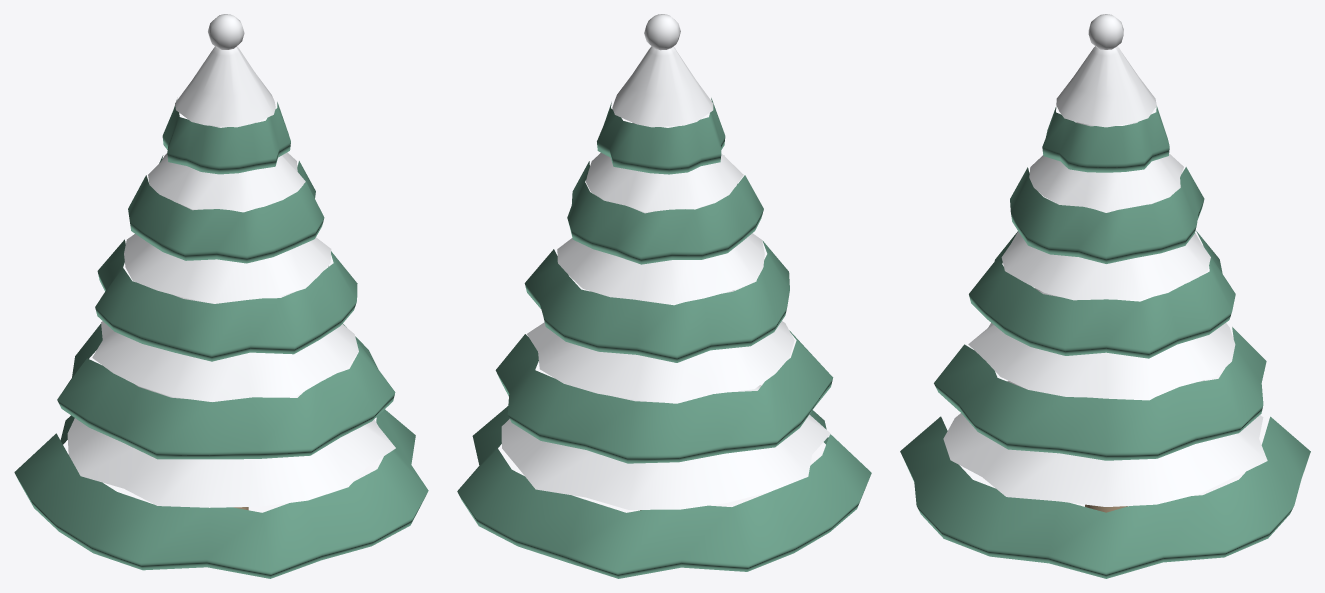
Rendered from BobsledPine.glb.
3 views of the same model, side by side, from view 1: azimuth 30°, elevation 25°; view 2: azimuth 150°, elevation 25°; view 3: azimuth 270°, elevation 25° (orthographic).
Visible parts, largest first — view 1: Needles, Snow; view 2: Needles, Snow; view 3: Needles, Snow.
Part boxes in pixels (<box>): Needles: <box>14,99,428,578</box>; Snow: <box>67,14,395,507</box>; Needles: <box>457,98,871,578</box>; Snow: <box>501,14,830,509</box>; Needles: <box>900,106,1310,578</box>; Snow: <box>943,14,1267,506</box>.
Size of the model in its own units: 10.13 by 14.05 by 10.03.
